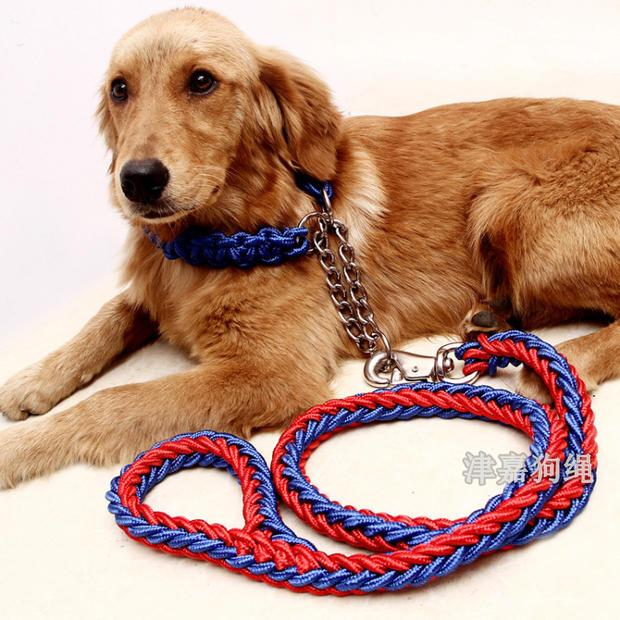dog: (2, 1, 620, 519)
